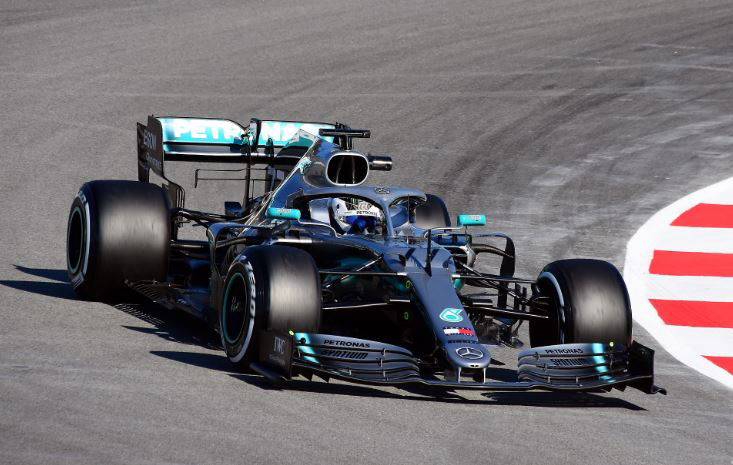F1 Car: (63, 109, 671, 409)
